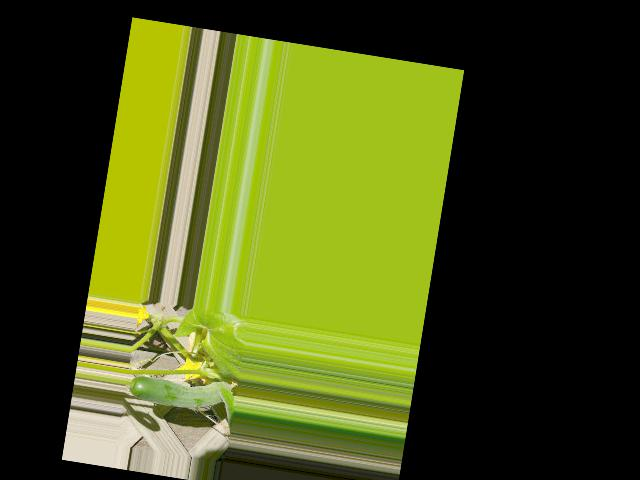cucumber: (128, 367, 238, 416)
